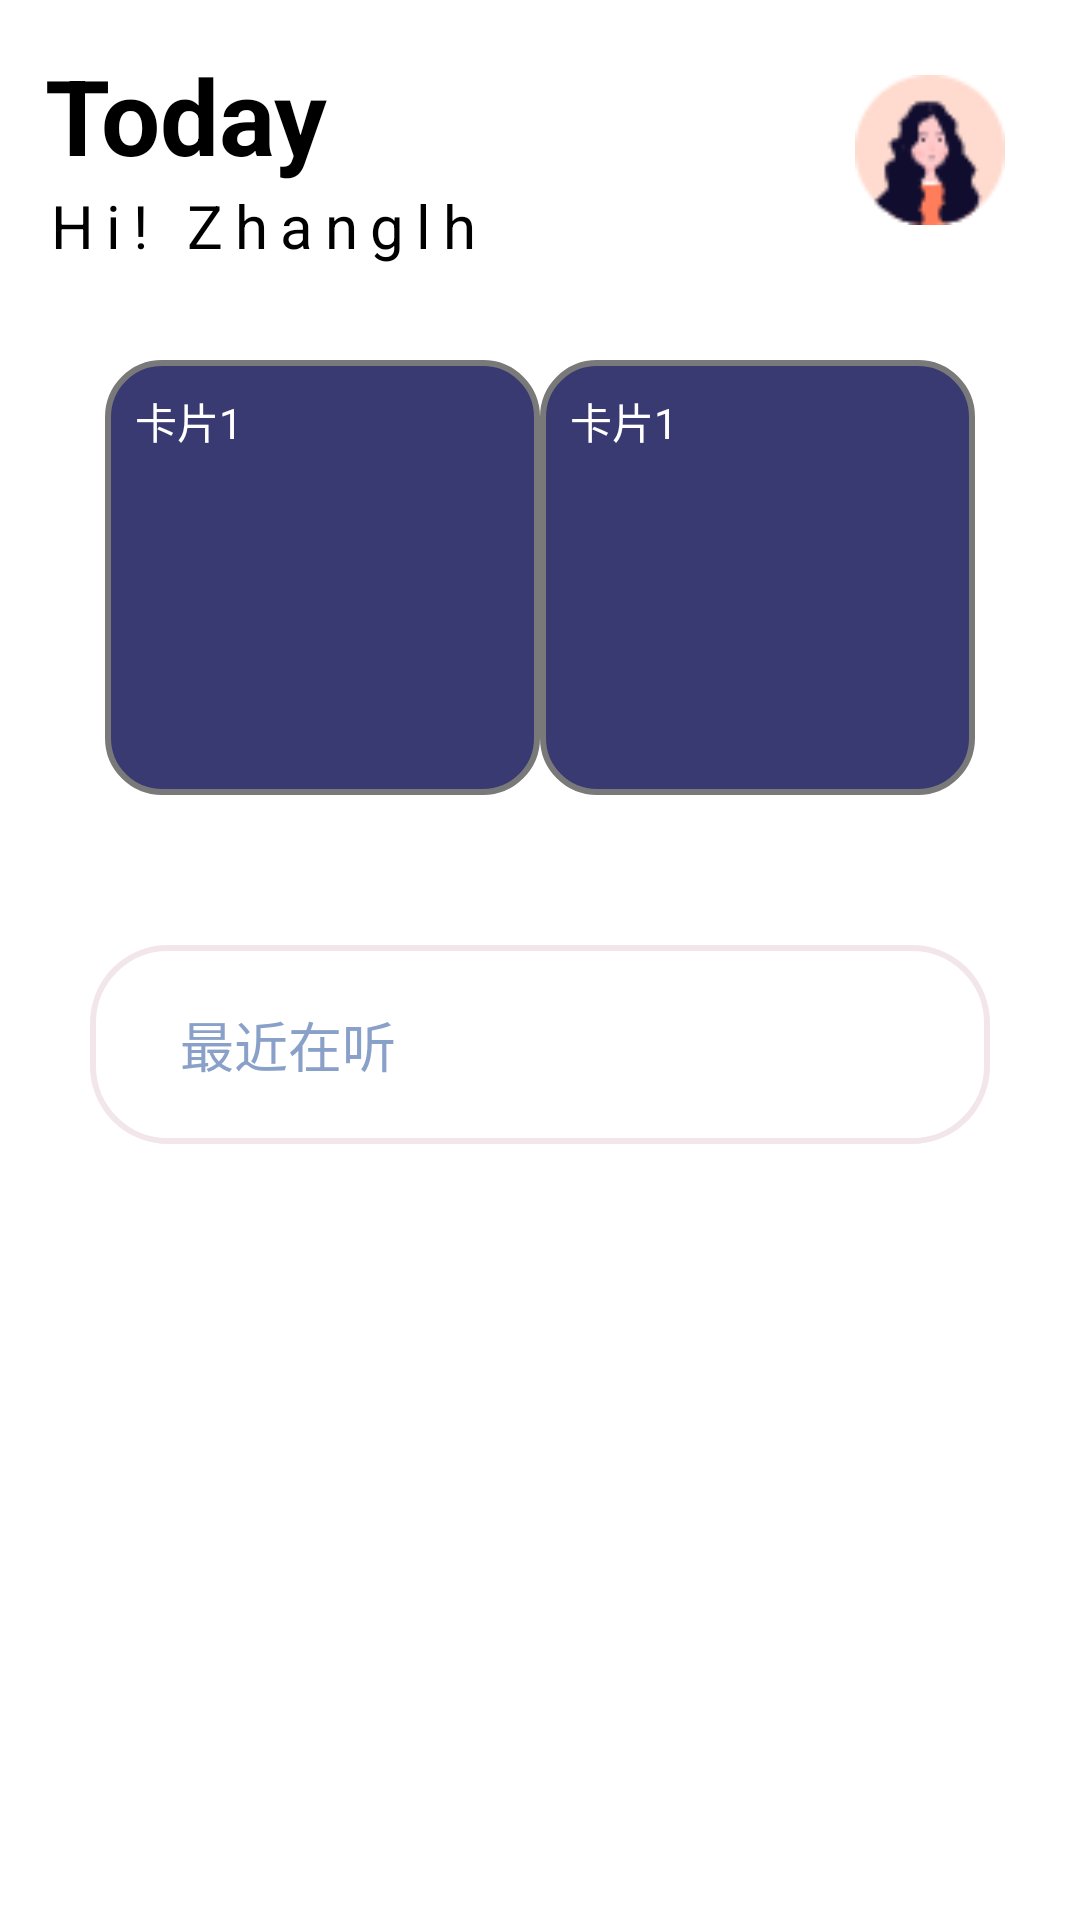

Where to tap for icons on this 1080px×1920px app screen, as (x,y):
profile: (930,150)
